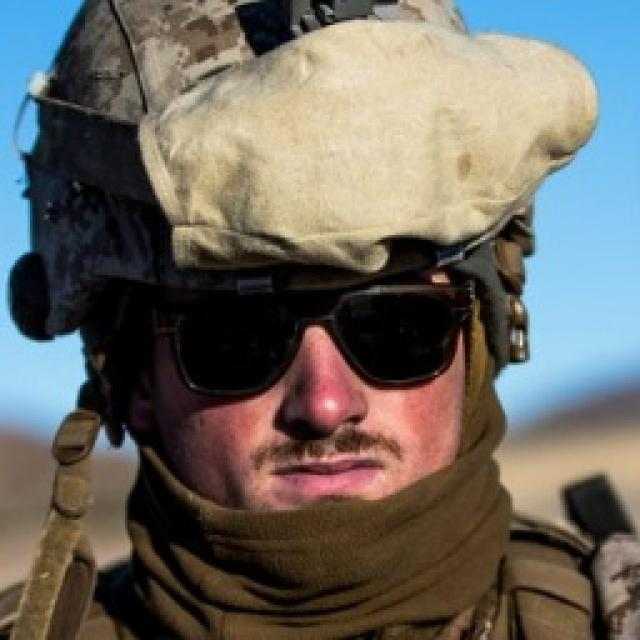glasses: (129, 260, 478, 416)
